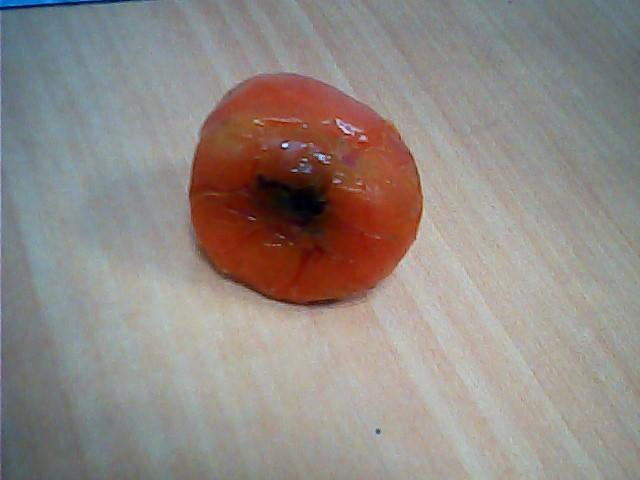defectuoso: (155, 74, 424, 311)
